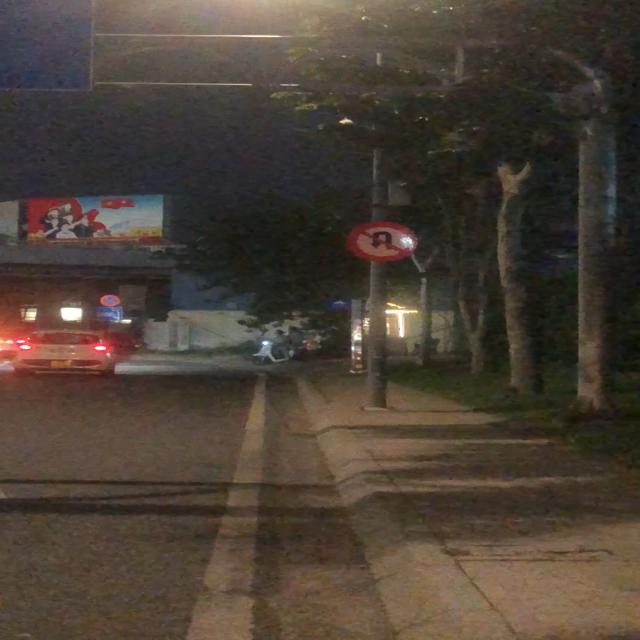Bien bao cam quay dau xe: (338, 218, 429, 264)
